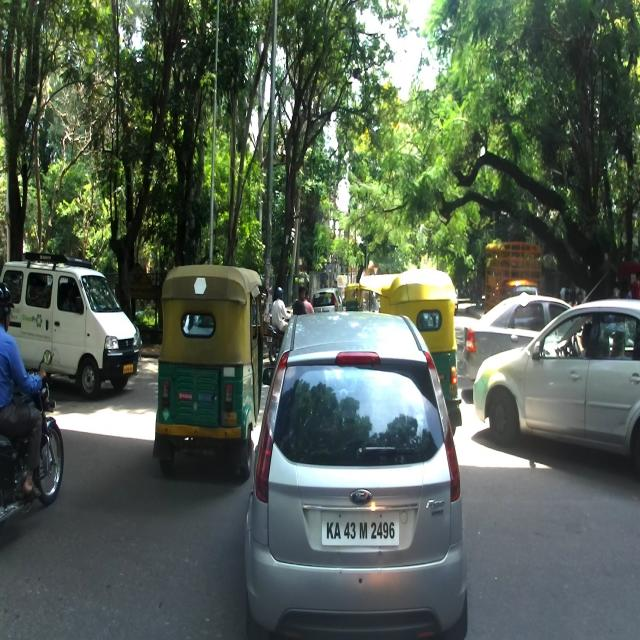Car: (472, 298, 640, 468)
Car_Ford: (242, 309, 468, 639)
Car_Maruti-Suzuki: (0, 251, 139, 398)
autorickshaw: (151, 263, 268, 478), (353, 267, 462, 438)
